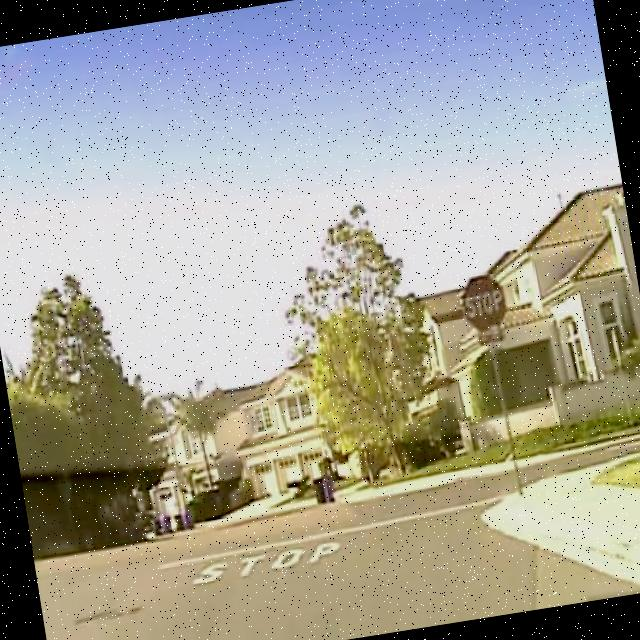Stop: (458, 272, 509, 334)
